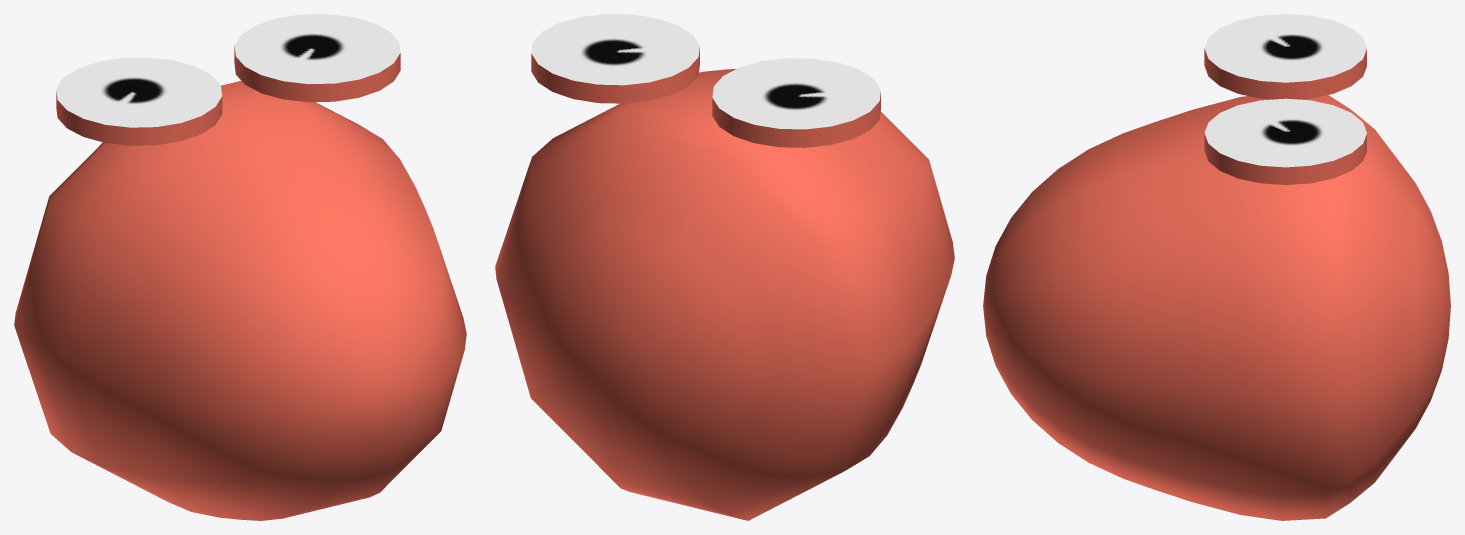
The model's file is Neprijatelj1.fbx.
The picture shows the model from 3 angles, left to right: view 1: azimuth 30°, elevation 25°; view 2: azimuth 150°, elevation 25°; view 3: azimuth 270°, elevation 25°; orthographic projection. The views are drawn at different scales.
Visible parts, largest first — view 1: Neprijatelj1; view 2: Neprijatelj1; view 3: Neprijatelj1.
Boxes of the visible parts, box(x1,y1,x2,y2) form: Neprijatelj1: box(14, 14, 466, 520); Neprijatelj1: box(495, 14, 954, 520); Neprijatelj1: box(983, 14, 1450, 520).
Size of the model in its own units: 74.56 by 76.63 by 80.53.
1 material, 1 textured.
